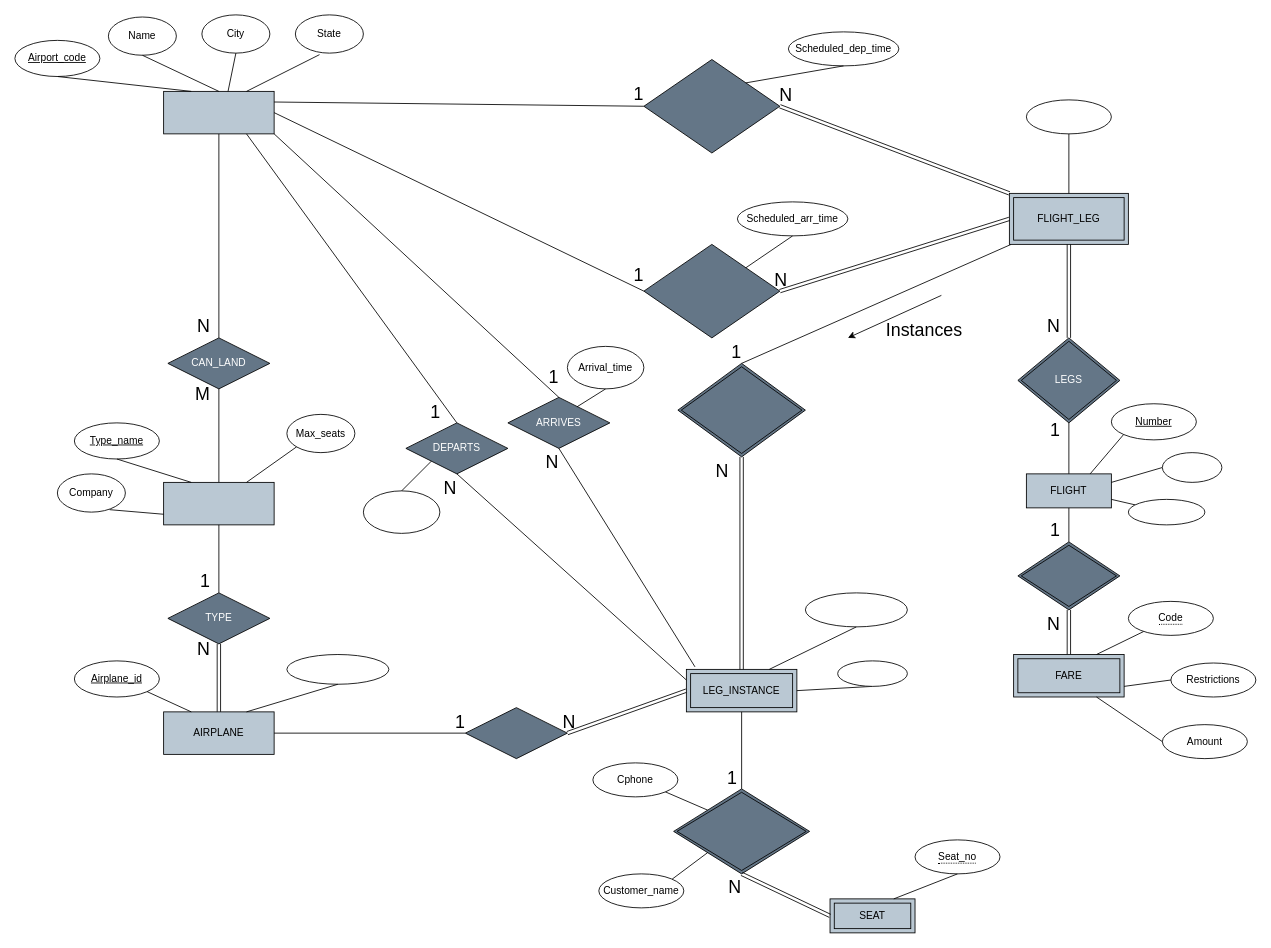
This 1271x948 diagram has some shape labels left out. Here are the shapes that lost their labels. From the top down, the centre of each, then its label:
At point (218, 112): "AIRPORT".
At point (711, 106): "DEPARTURE_AIRPORT".
At point (1068, 116): "Leg_no".
At point (711, 291): "ARRIVAL_AIRPORT".
At point (741, 410): "INSTANCE_OF".
At point (1192, 467): "Airline".
At point (218, 503): "AIRPLANE_TYPE".
At point (401, 511): "Departure_time".
At point (1166, 512): "Weekdays".
At point (1068, 575): "FARES".
At point (856, 609): "No_of_avail_seats".
At point (337, 669): "Total_no_of_seats".
At point (872, 673): "Date".
At point (516, 733): "ASSIGNED".
At point (741, 831): "RESERVATION".
